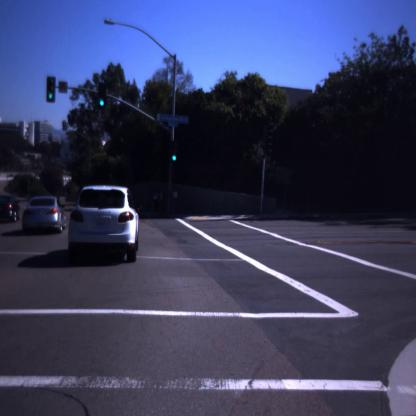trafficlight: (46, 74, 58, 107), (169, 134, 178, 164)
